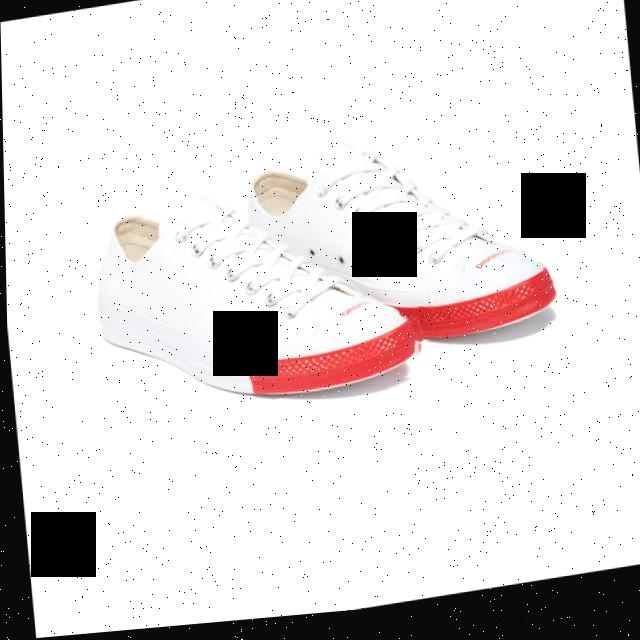shoe: (79, 164, 427, 429), (239, 121, 558, 372)
